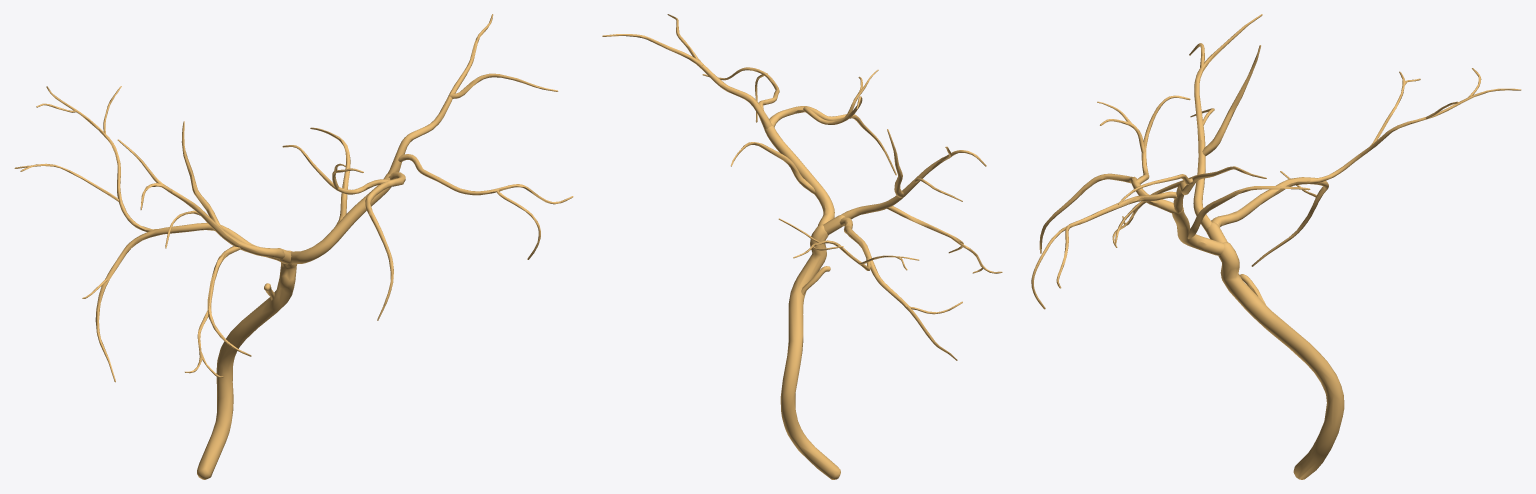
The model's file is vias-biliares.glb.
3 views of the same model, side by side, from view 1: azimuth 30°, elevation 25°; view 2: azimuth 150°, elevation 25°; view 3: azimuth 270°, elevation 25° (orthographic). The views are drawn at different scales.
Parts seen in each view (by area): view 1: vias-biliares; view 2: vias-biliares; view 3: vias-biliares.
Part boxes in pixels (left/top/right/bottom): vias-biliares: left=14, top=14, right=573, bottom=479; vias-biliares: left=602, top=14, right=1002, bottom=479; vias-biliares: left=1031, top=14, right=1521, bottom=479.
Size of the model in its own units: 0.1495 by 0.1429 by 0.1428.
